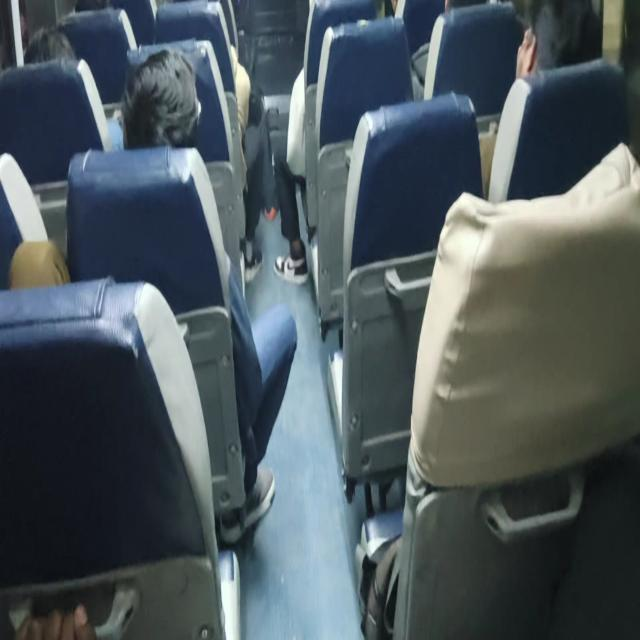person: (124, 64, 206, 180), (509, 8, 595, 94), (17, 32, 86, 77)
